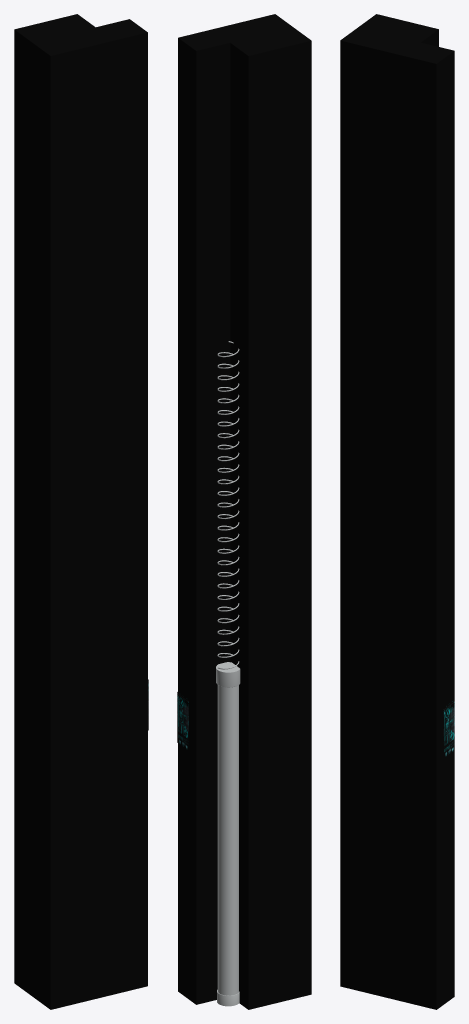
File: pipe.glb
3 views of the same model, side by side, from view 1: azimuth 30°, elevation 25°; view 2: azimuth 210°, elevation 25°; view 3: azimuth 330°, elevation 25° (orthographic).
Visible parts, largest first — view 1: Cube.003; view 2: Cube.003, Cylinder.009, Cylinder.005, Plane.035; view 3: Cube.003, Plane.035.
Part boxes in pixels (bbox=[...]): Cube.003: bbox=[14, 14, 147, 1009]; Cube.003: bbox=[178, 14, 311, 1009]; Cylinder.009: bbox=[216, 662, 240, 1006]; Cylinder.005: bbox=[217, 341, 239, 669]; Plane.035: bbox=[177, 692, 188, 750]; Cube.003: bbox=[340, 14, 454, 1009]; Plane.035: bbox=[443, 700, 454, 757].
Size of the model in its own units: 1.2 by 10.82 by 0.7501.
Materials: 4 (3 with a texture image).
